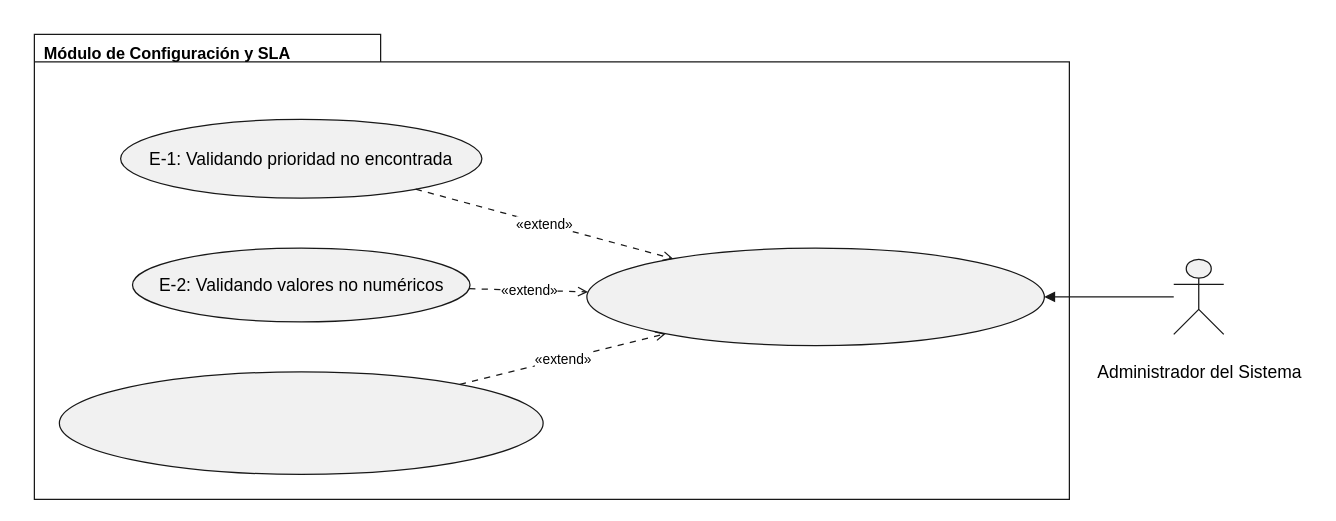
Image size: 1336x521. Some labels were removed from this diagram. The shapes that lost their labels are listed below. From the top down, each one's box as (x1, y1, x2, y2) in pixels, then its label:
(586, 247, 1044, 346): CU-28: Configurando tiempos de respuesta de SLAs
(58, 371, 543, 474): E-3: Validando incongruencia de tiempos de respuesta
